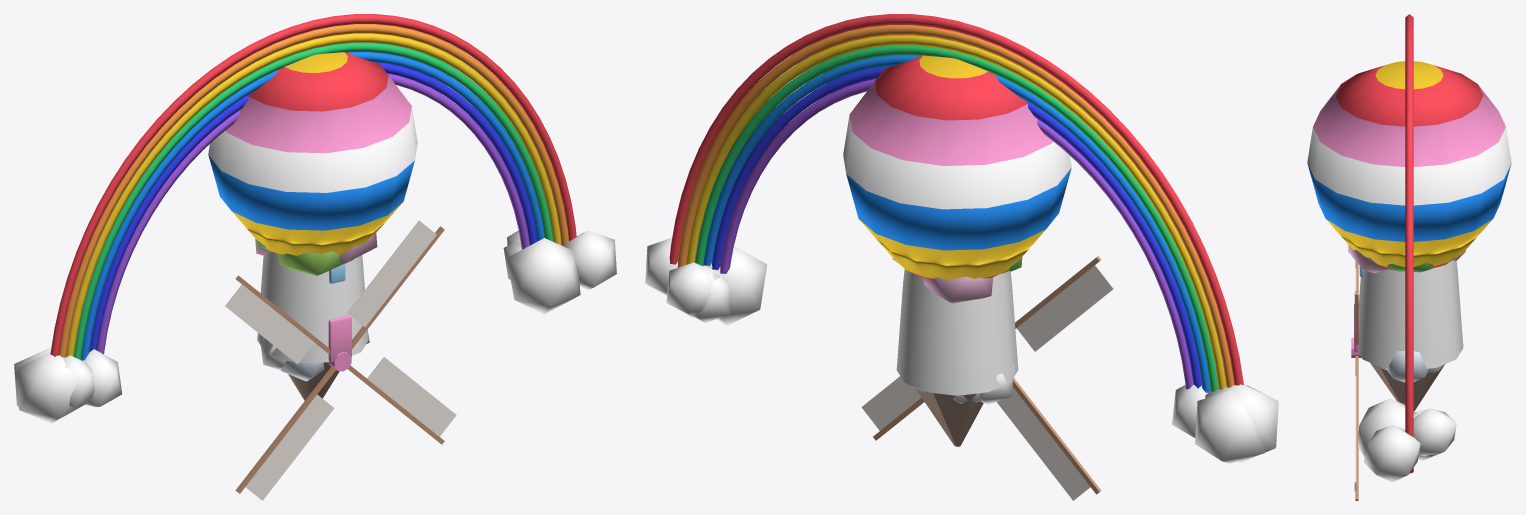
Rendered from sky.glb.
3 renders of one model, left to right at view 1: azimuth 30°, elevation 25°; view 2: azimuth 150°, elevation 25°; view 3: azimuth 270°, elevation 25°, orthographic. The views are drawn at different scales.
Parts seen in each view (by area): view 1: rainbow_arch, hot_air_balloon, windmill_blades, windmill_base, sky_tree, cloud_puff, floating_rock; view 2: rainbow_arch, hot_air_balloon, windmill_base, windmill_blades, floating_rock, sky_tree, cloud_puff; view 3: hot_air_balloon, rainbow_arch, windmill_base, windmill_blades, floating_rock, cloud_puff, sky_tree.
Boxes of the visible parts, box(x1,y1,x2,y2) form: rainbow_arch: box(14, 14, 616, 423); hot_air_balloon: box(208, 52, 417, 255); windmill_blades: box(225, 220, 456, 500); windmill_base: box(257, 250, 368, 363); sky_tree: box(255, 233, 377, 275); cloud_puff: box(259, 334, 369, 381); floating_rock: box(288, 362, 339, 400); rainbow_arch: box(645, 14, 1278, 463); hot_air_balloon: box(843, 55, 1071, 279); windmill_base: box(896, 269, 1018, 395); windmill_blades: box(861, 256, 1114, 500); floating_rock: box(915, 388, 983, 446); sky_tree: box(892, 257, 1022, 303); cloud_puff: box(897, 365, 1014, 404); hot_air_balloon: box(1307, 61, 1511, 270); rainbow_arch: box(1358, 14, 1456, 482); windmill_base: box(1354, 260, 1463, 368); windmill_blades: box(1351, 260, 1361, 500); floating_rock: box(1370, 362, 1443, 410); cloud_puff: box(1380, 350, 1445, 382); sky_tree: box(1348, 244, 1465, 273).
Bounding box in the file's own units: 23.06 × 16.57 × 7.2.
